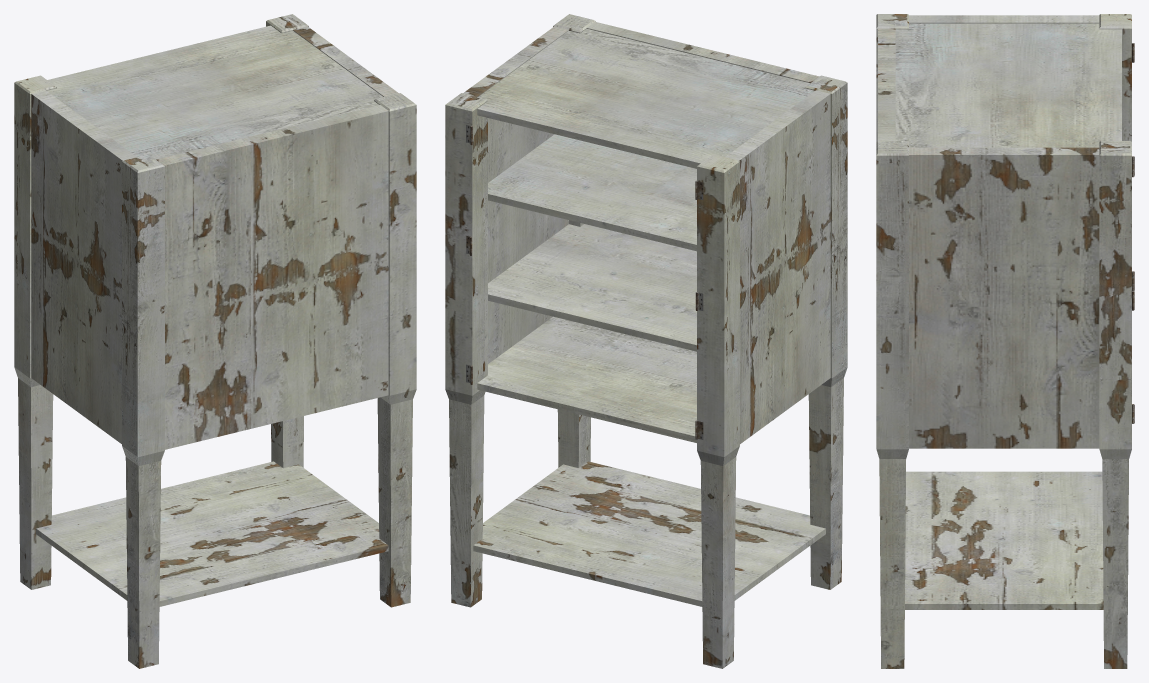
File: Cubbert_A.fbx
3 renders of one model, left to right at view 1: azimuth 30°, elevation 25°; view 2: azimuth 150°, elevation 25°; view 3: azimuth 270°, elevation 25°, orthographic. The views are drawn at different scales.
Parts seen in each view (by area): view 1: Cubbert_A; view 2: Cubbert_A; view 3: Cubbert_A.
Part boxes in pixels (bbox=[...]): Cubbert_A: bbox=[14, 14, 416, 668]; Cubbert_A: bbox=[445, 14, 847, 668]; Cubbert_A: bbox=[876, 14, 1134, 668].
Size of the model in its own units: 1.15 by 1.97 by 0.8931.
